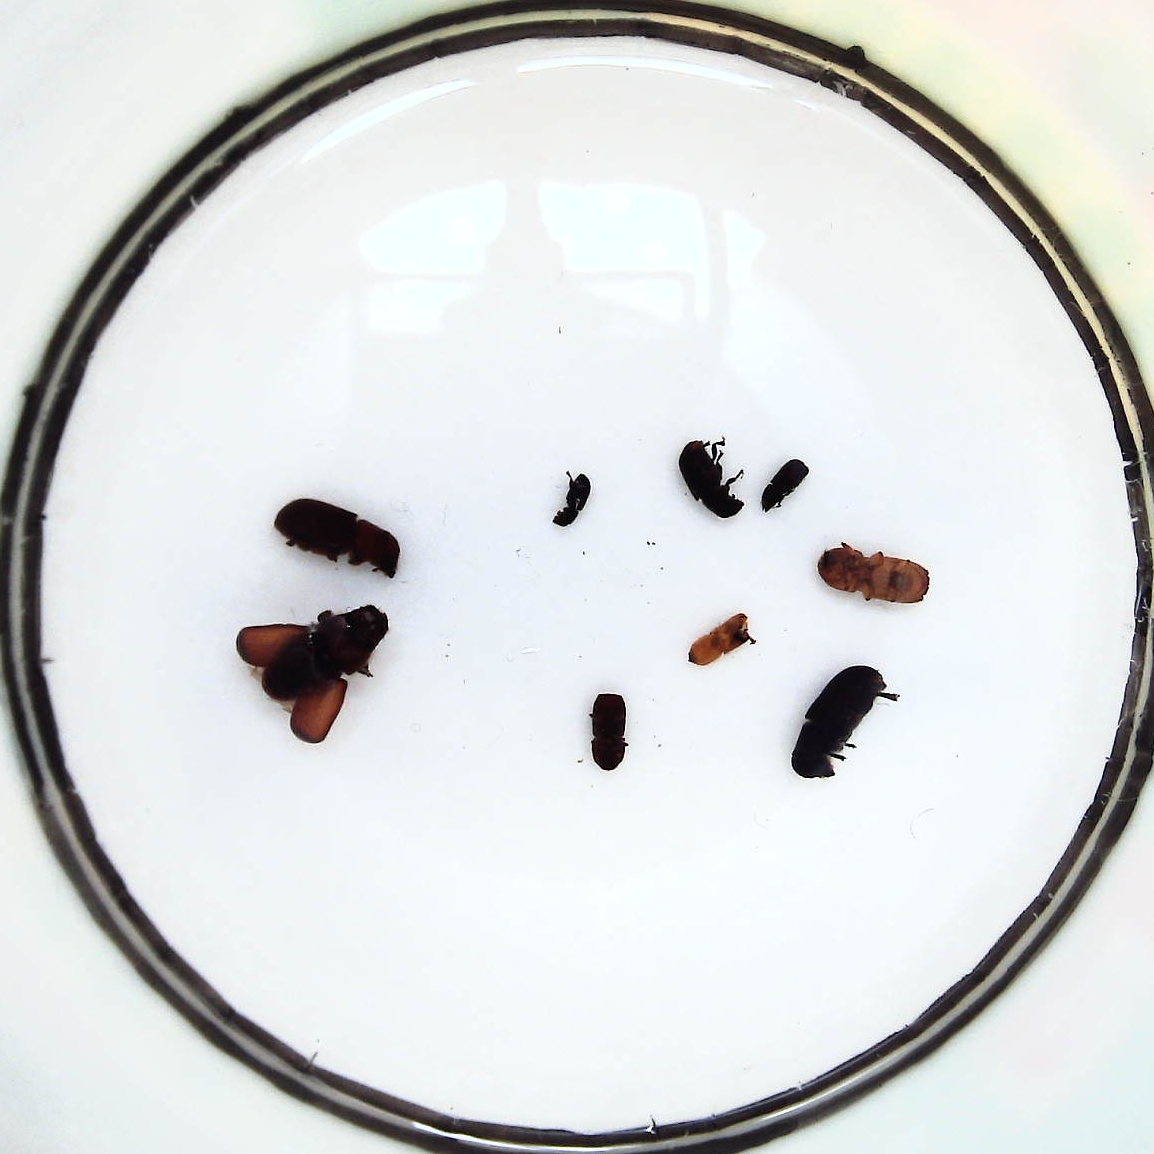Leconte: (234, 603, 387, 743), (792, 666, 885, 780), (274, 499, 401, 580)
acuminatus: (760, 460, 808, 511), (553, 473, 592, 527)
armandi: (680, 440, 744, 519), (592, 693, 628, 771)
coleoptera: (687, 612, 749, 668)
linnaeus: (818, 550, 930, 604)
